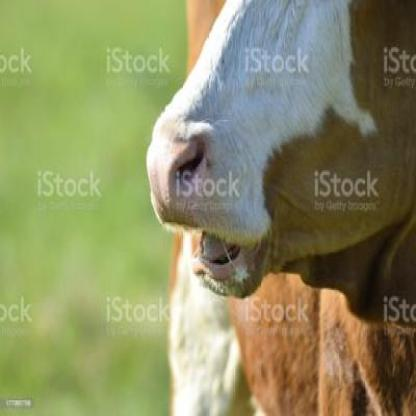lower: (217, 278, 229, 291)
mouth: (146, 124, 276, 300)
upper: (161, 154, 172, 180)
